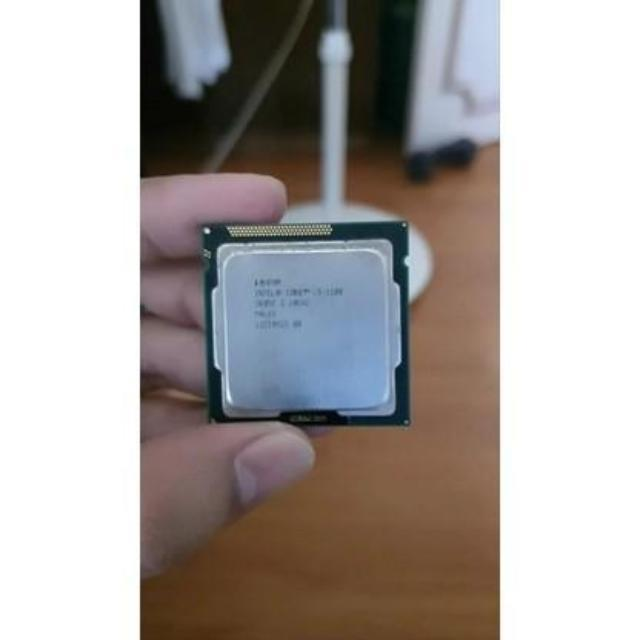CPU: (206, 222, 411, 424)
